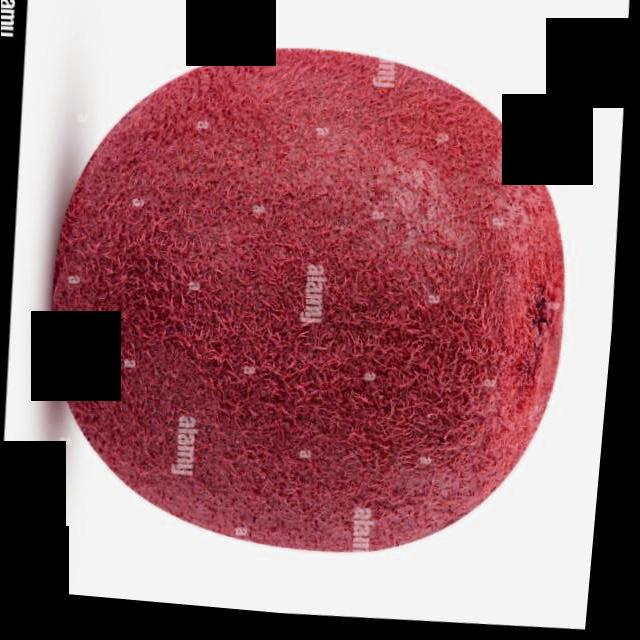kiwi: (29, 27, 601, 583)
